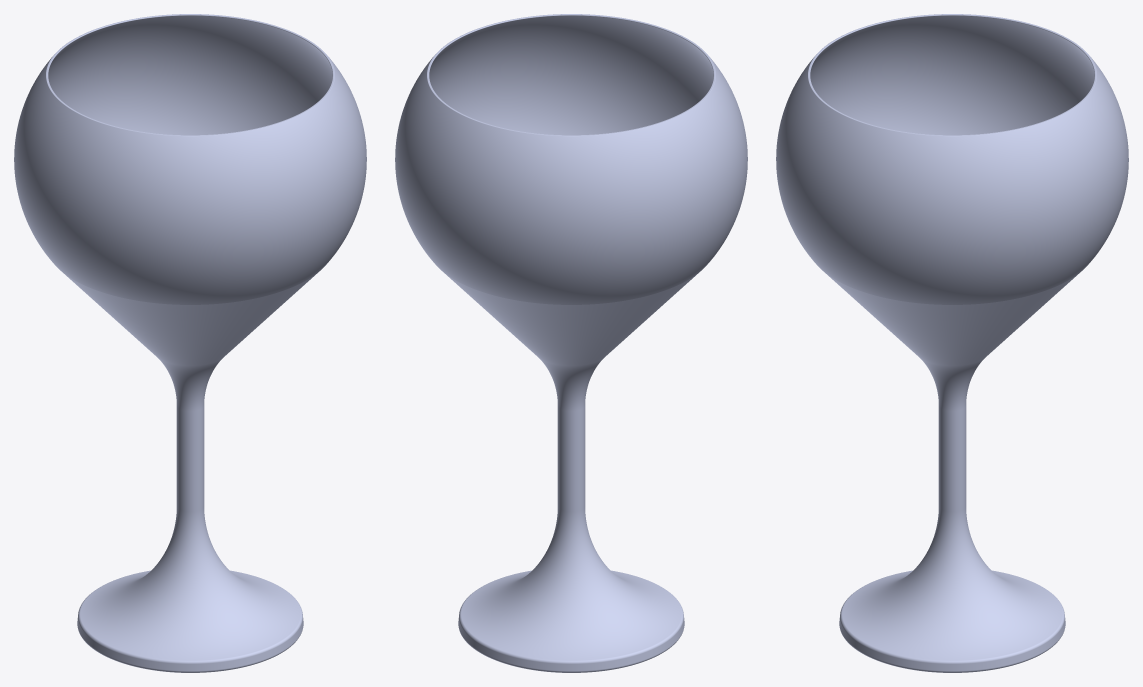
File: Copa.fbx
3 renders of one model, left to right at view 1: azimuth 30°, elevation 25°; view 2: azimuth 150°, elevation 25°; view 3: azimuth 270°, elevation 25°, orthographic.
Parts seen in each view (by area): view 1: Caliz; view 2: Caliz; view 3: Caliz.
Part boxes in pixels (<box>): Caliz: <box>14,14,366,672</box>; Caliz: <box>395,14,747,672</box>; Caliz: <box>776,14,1128,672</box>.
Size of the model in its own units: 116 by 200 by 116.
